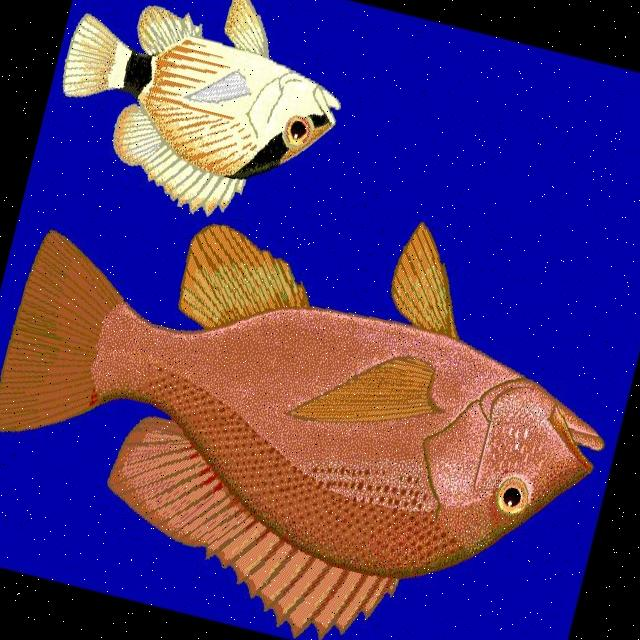ikan: (0, 132, 640, 640), (35, 0, 363, 244)
